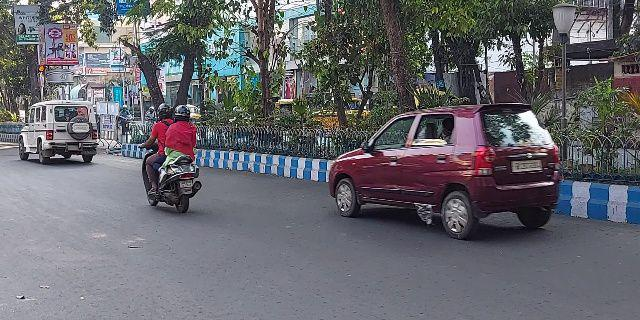Car: (324, 101, 566, 241), (15, 96, 100, 168)
Motorbike: (140, 99, 203, 218)
